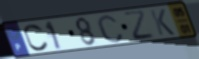1: (44, 20, 65, 50)
8: (75, 16, 97, 47)
C: (95, 13, 126, 44), (23, 23, 51, 52)
K: (148, 8, 177, 37)
Z: (122, 9, 157, 42)
